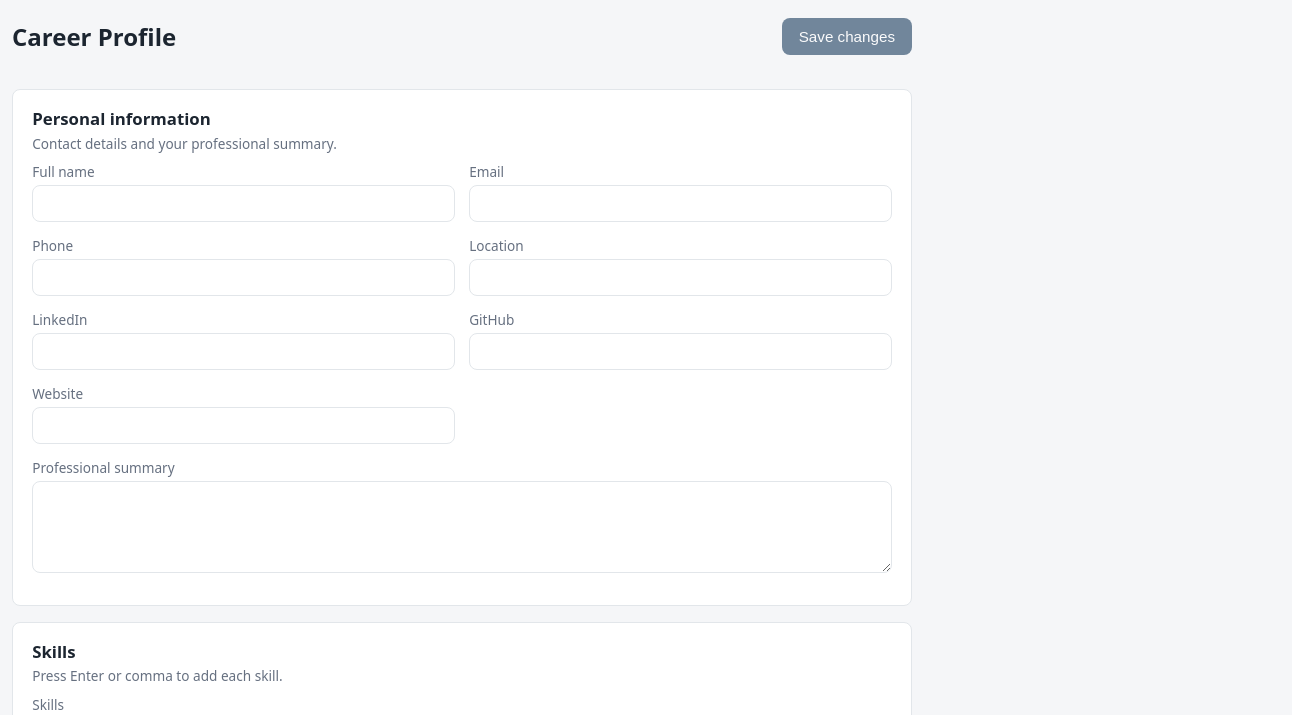
it: <Profile /> › surfaces a server error on save
Type "Jane" into the field labelled "Full name" at point(244, 204), box [32, 185, 455, 222]
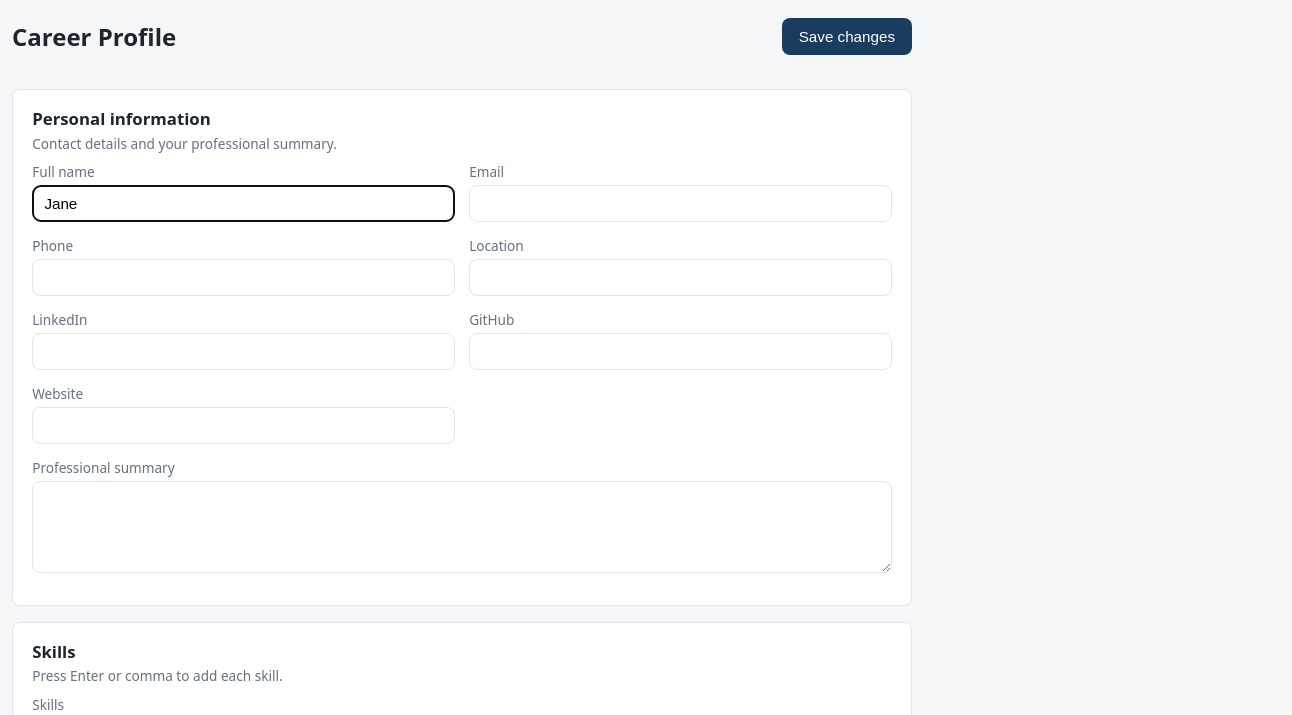
Click the button "Save changes" at point(847, 36), box [782, 18, 912, 55]
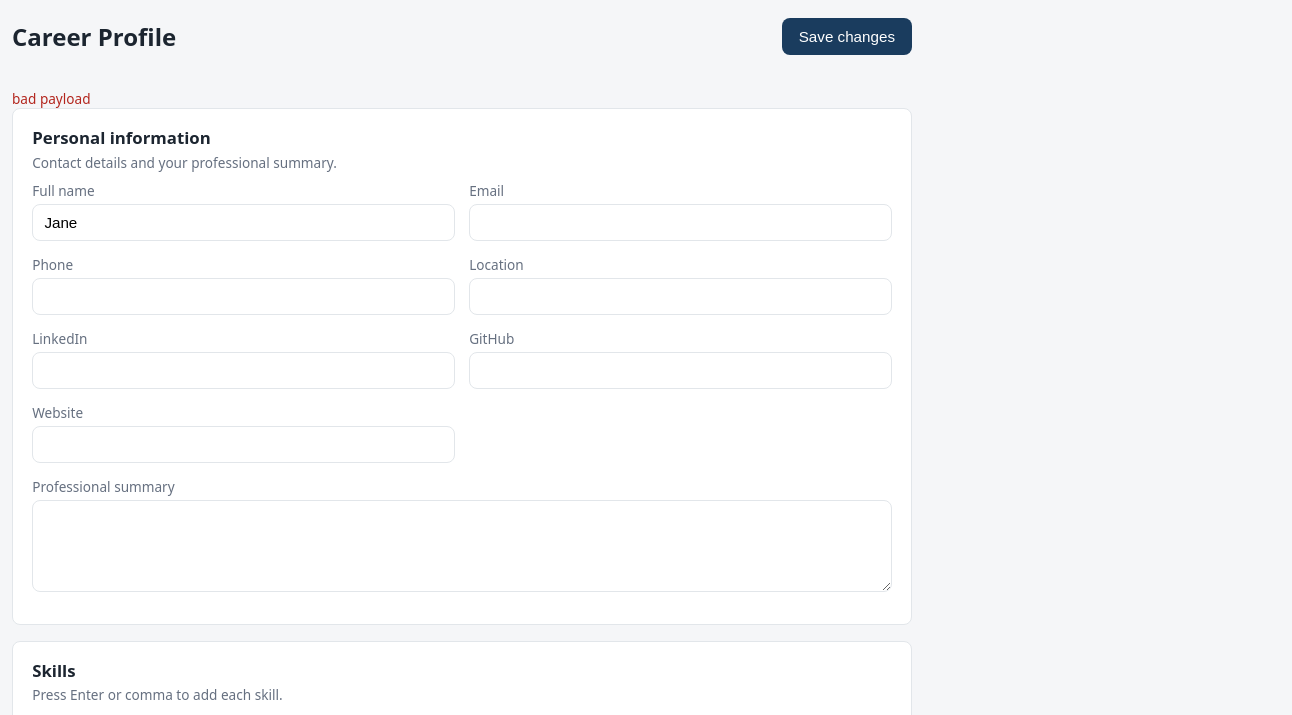
Result: the text "bad payload" is shown at [12, 89, 90, 108]
